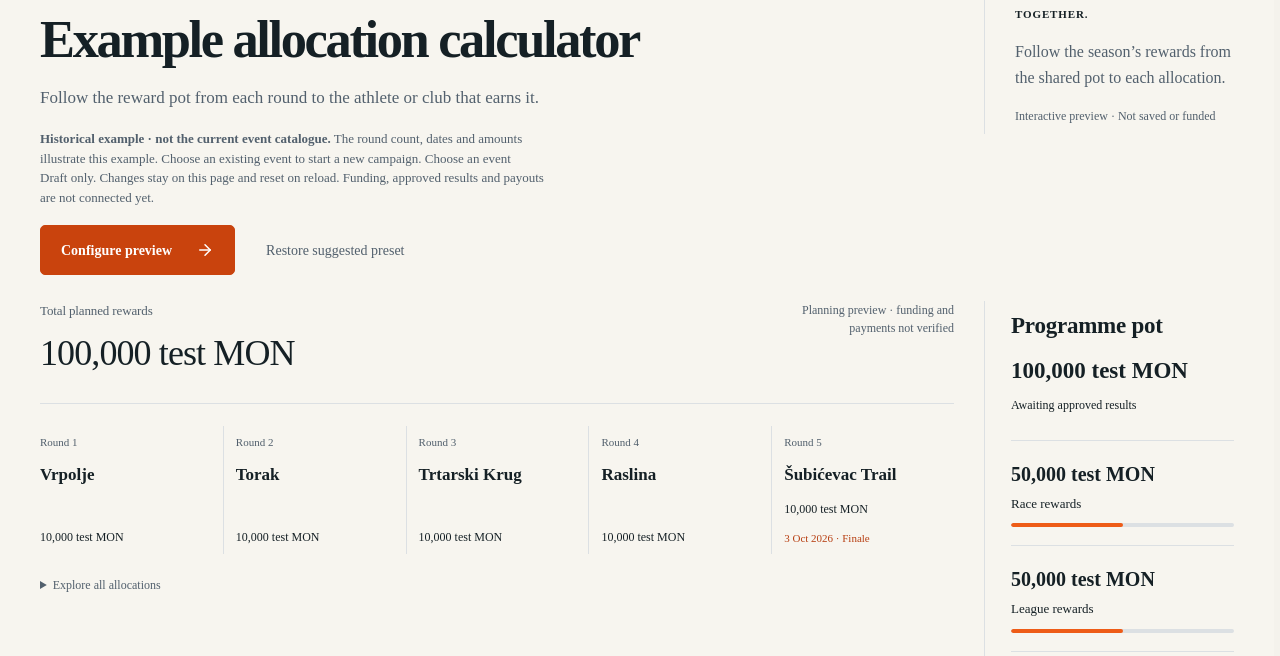
Test: v2 shared programme screen › rejects invalid totals without changing the displayed budget and cancel restores focus
Click the button "Configure preview". click: [138, 250]
box: [40, 225, 235, 275]
(page scrolled)
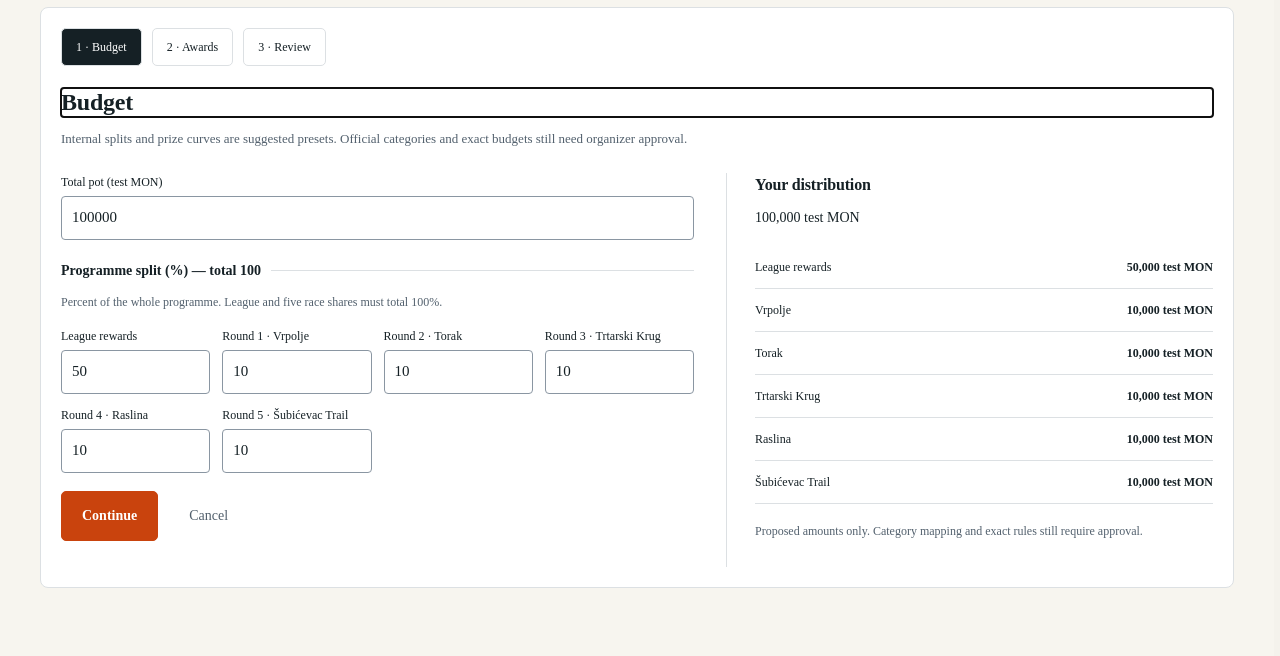
Replace the text in the field labelled "League rewards" with "51". click: [136, 372]
box: [61, 350, 210, 394]
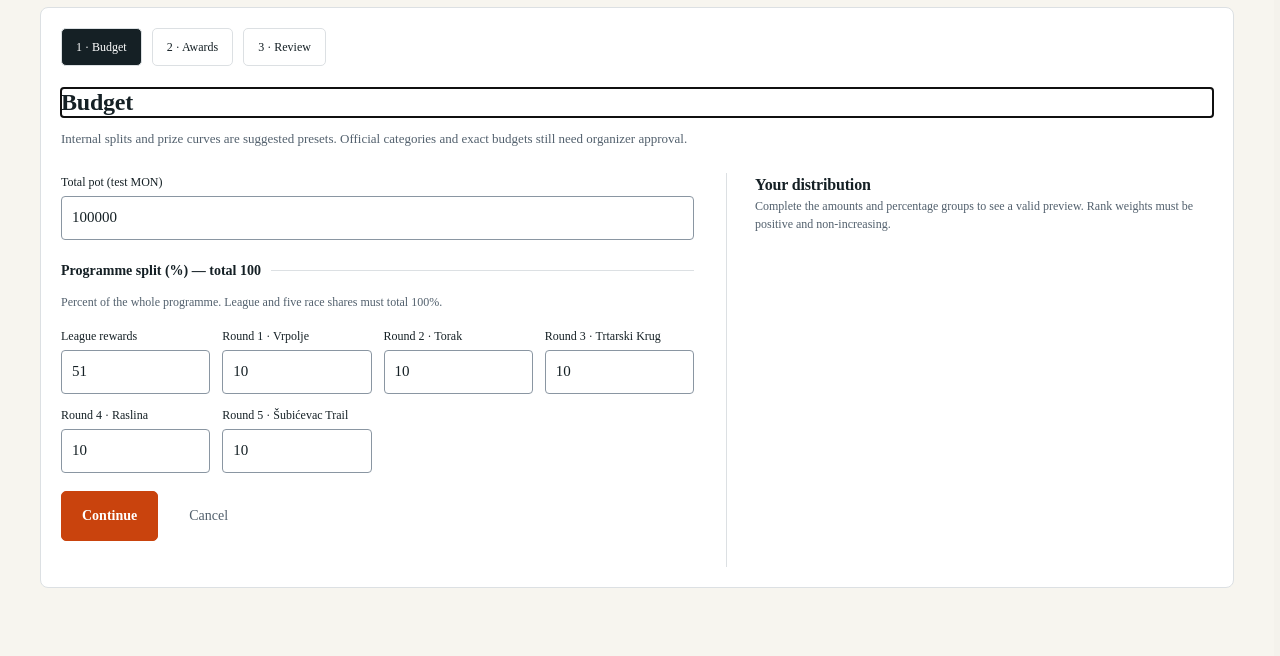
Click the button "Continue". click: [110, 516]
box: [61, 490, 158, 540]
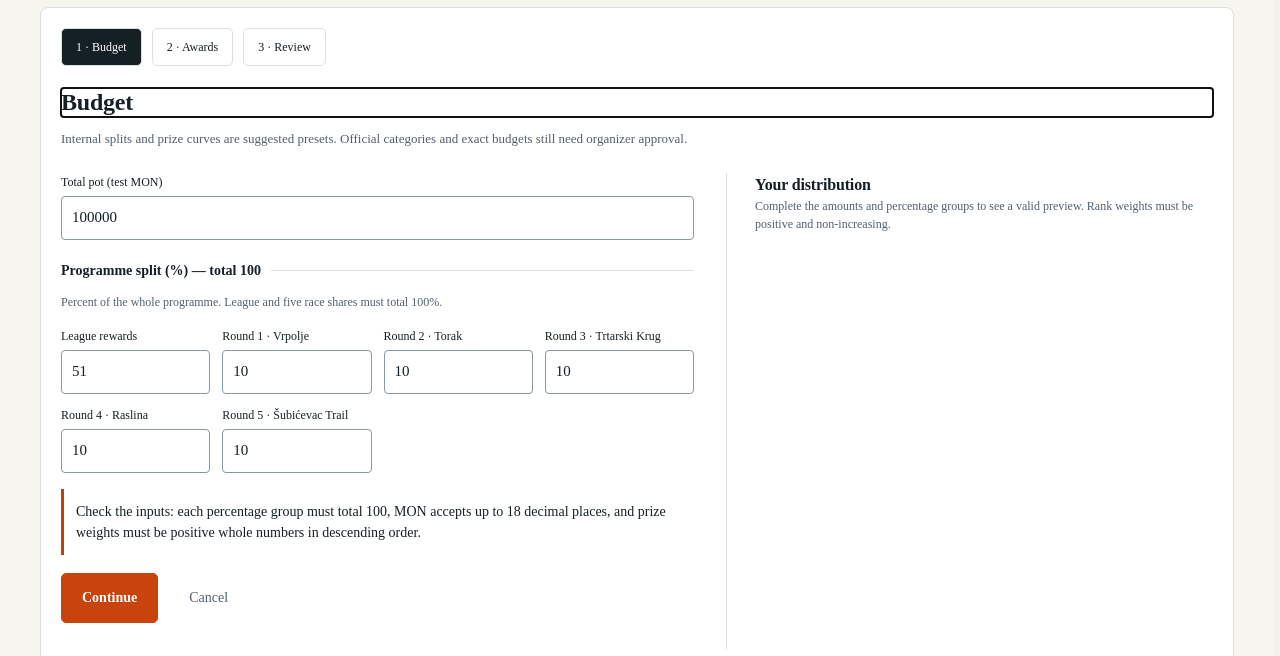
expect the 2nd message shows "each percentage group must total 100": met, box [76, 504, 666, 540]
Click the button "Cancel". click: [209, 598]
box: [174, 572, 243, 622]
(page scrolled)
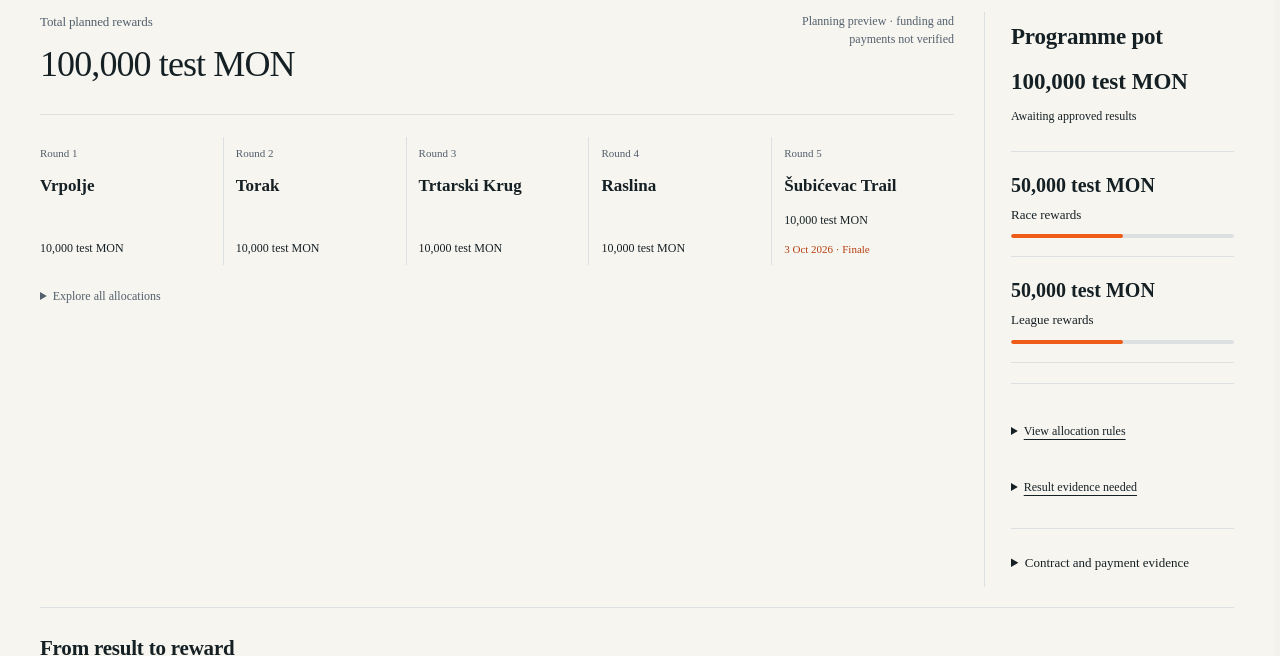
expect the text "100,000 test MON" is shown: met, box [1011, 69, 1188, 94]
